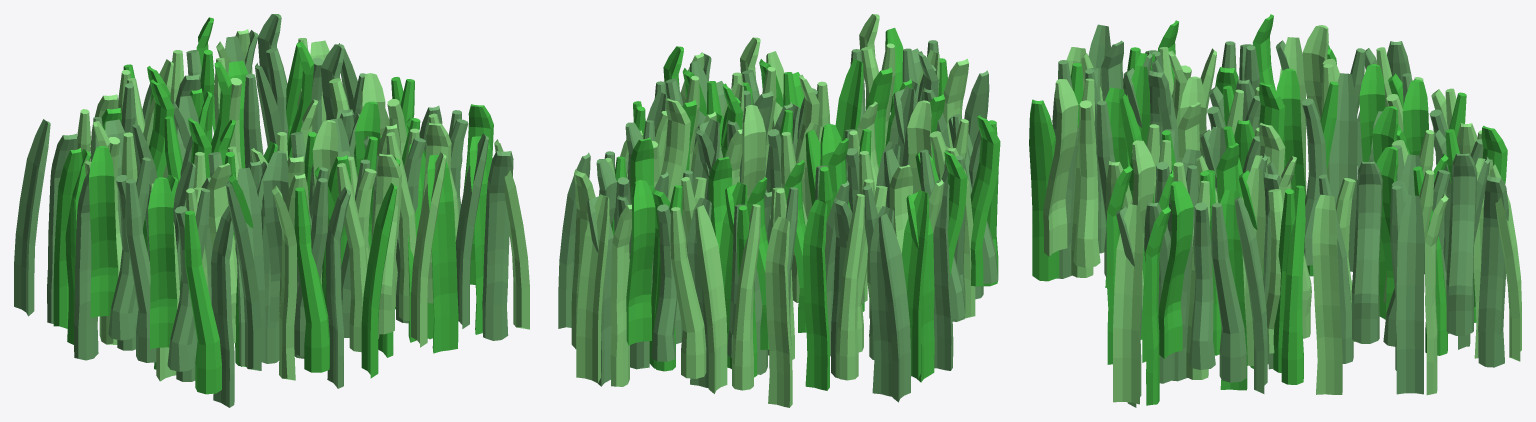
The model's file is Gras 1.1.fbx.
The picture shows the model from 3 angles, left to right: view 1: azimuth 30°, elevation 25°; view 2: azimuth 150°, elevation 25°; view 3: azimuth 270°, elevation 25°; orthographic projection. The views are drawn at different scales.
Visible parts, largest first — view 1: Cylinder.018; view 2: Cylinder.018; view 3: Cylinder.018.
Part boxes in pixels (left/top/right/bottom): Cylinder.018: left=14, top=14, right=529, bottom=407; Cylinder.018: left=558, top=14, right=1000, bottom=407; Cylinder.018: left=1029, top=14, right=1521, bottom=407.
Bounding box in the file's own units: 3155 × 1994 × 3582.
